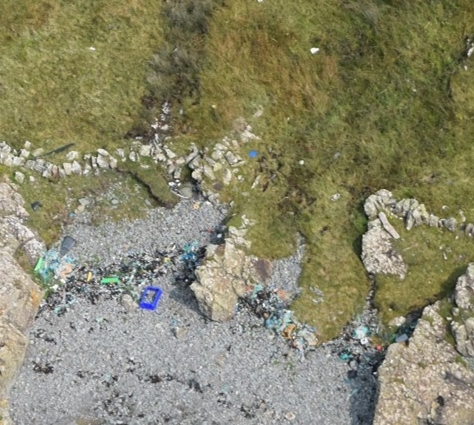net: (263, 299, 322, 354), (33, 241, 81, 290), (175, 237, 205, 264)
scattered_barrel: (94, 267, 171, 312), (339, 317, 388, 367)
white_in_green: (230, 133, 273, 173)
